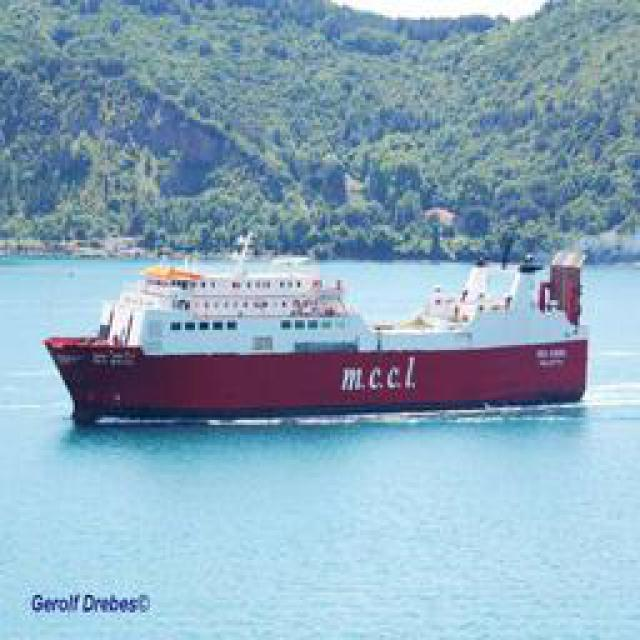Ship: (49, 234, 592, 427)
